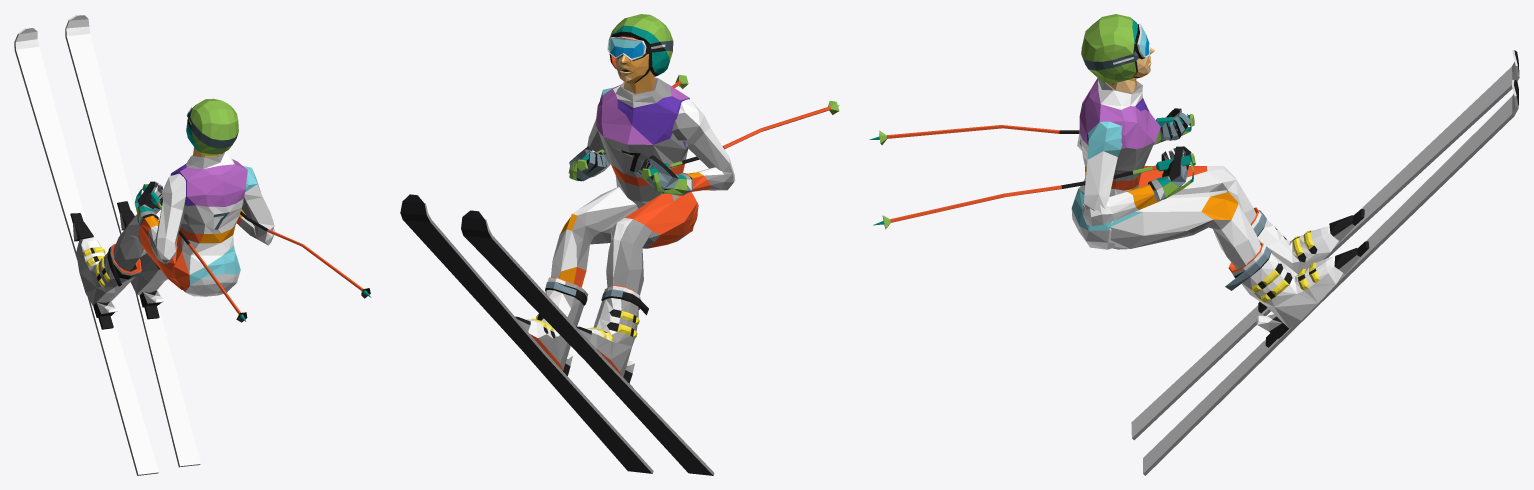
The picture shows the model from 3 angles, left to right: view 1: azimuth 30°, elevation 25°; view 2: azimuth 150°, elevation 25°; view 3: azimuth 270°, elevation 25°; orthographic projection. The views are drawn at different scales.
Visible parts, largest first — view 1: group_1024749857, group_1126505564, mesh_1622693884, mesh_2032061265, mesh_1526765313, mesh_1812052774, mesh_379169632, mesh_1538282207, mesh_1957457281, mesh_557752555, mesh_879022602, mesh_1507658319 (+2 smaller); view 2: mesh_1622693884, group_1126505564, group_1024749857, mesh_379169632, mesh_1996118965, mesh_2032061265, mesh_1957457281, mesh_1812052774, mesh_1526765313, mesh_557752555, mesh_879022602, mesh_1970808768 (+3 smaller); view 3: group_1126505564, group_1024749857, mesh_1996118965, mesh_1622693884, mesh_1957457281, mesh_1526765313, mesh_1538282207, mesh_2032061265, mesh_379169632, mesh_584479271, mesh_1507658319, mesh_306099743 (+2 smaller).
Boxes of the visible parts, x1,y1,x2,y2 form: group_1024749857: [14, 26, 158, 475]; group_1126505564: [65, 14, 200, 467]; mesh_1622693884: [170, 152, 247, 296]; mesh_2032061265: [76, 237, 141, 305]; mesh_1526765313: [186, 98, 238, 155]; mesh_1812052774: [155, 173, 185, 255]; mesh_379169632: [113, 214, 183, 289]; mesh_1538282207: [241, 166, 274, 238]; mesh_1957457281: [123, 230, 167, 295]; mesh_557752555: [134, 181, 162, 225]; mesh_879022602: [142, 184, 247, 322]; mesh_1507658319: [240, 211, 371, 298]; mesh_1622693884: [596, 77, 698, 242]; group_1126505564: [400, 194, 653, 473]; group_1024749857: [461, 210, 714, 475]; mesh_379169632: [606, 193, 697, 295]; mesh_1996118965: [551, 187, 637, 287]; mesh_2032061265: [585, 285, 648, 376]; mesh_1957457281: [526, 277, 588, 370]; mesh_1812052774: [672, 99, 734, 174]; mesh_1526765313: [609, 14, 673, 76]; mesh_557752555: [636, 155, 692, 195]; mesh_879022602: [641, 101, 839, 180]; mesh_1970808768: [686, 167, 735, 192]; group_1126505564: [1143, 79, 1518, 475]; group_1024749857: [1131, 50, 1519, 440]; mesh_1996118965: [1108, 190, 1260, 268]; mesh_1622693884: [1071, 78, 1160, 249]; mesh_1957457281: [1225, 243, 1342, 328]; mesh_1526765313: [1081, 14, 1138, 83]; mesh_1538282207: [1083, 121, 1122, 210]; mesh_2032061265: [1250, 207, 1338, 273]; mesh_379169632: [1138, 166, 1256, 223]; mesh_584479271: [1082, 184, 1161, 226]; mesh_1507658319: [873, 153, 1195, 229]; mesh_306099743: [1148, 146, 1194, 201].
Size of the model in its own units: 192 by 502 by 645.
